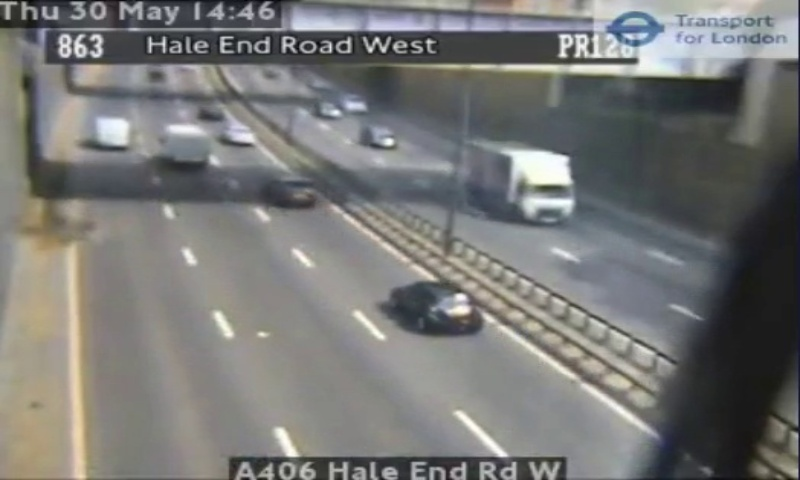car: (393, 282, 480, 331), (264, 177, 317, 205)
van: (164, 125, 206, 161), (94, 118, 128, 145)
